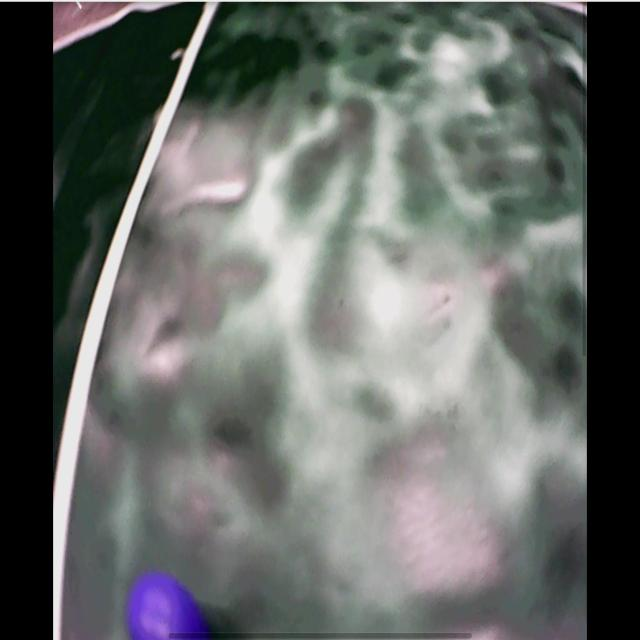ball: (124, 573, 201, 640)
